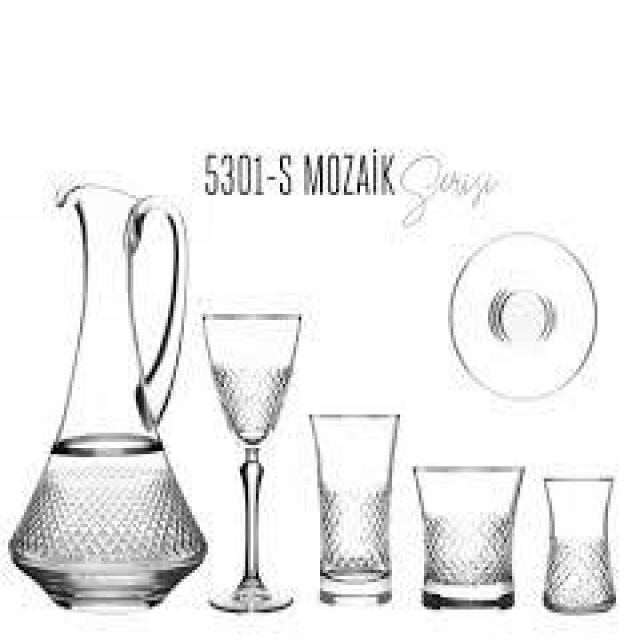non-organic waste: (7, 180, 209, 612), (198, 310, 302, 616), (449, 232, 602, 402), (303, 410, 401, 608), (411, 462, 528, 614), (538, 474, 618, 617)
